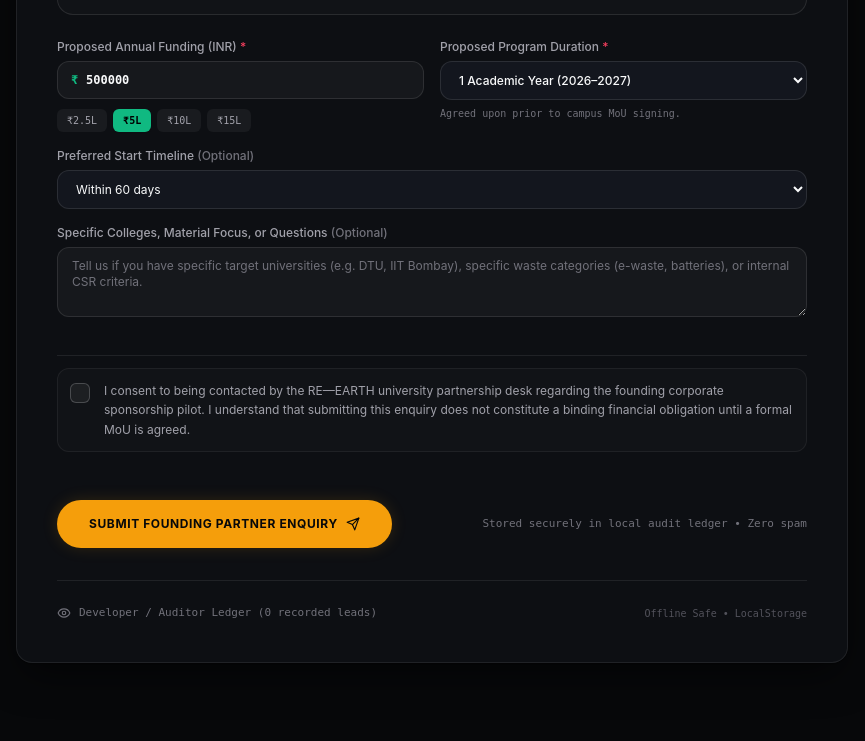
Test: SponsorEnquiryForm Component › validates required fields before allowing submission
(page scrolled)
Click the button "Submit Founding Partner Enquiry".
click(224, 524)  # box [57,500,392,548]
(page scrolled)
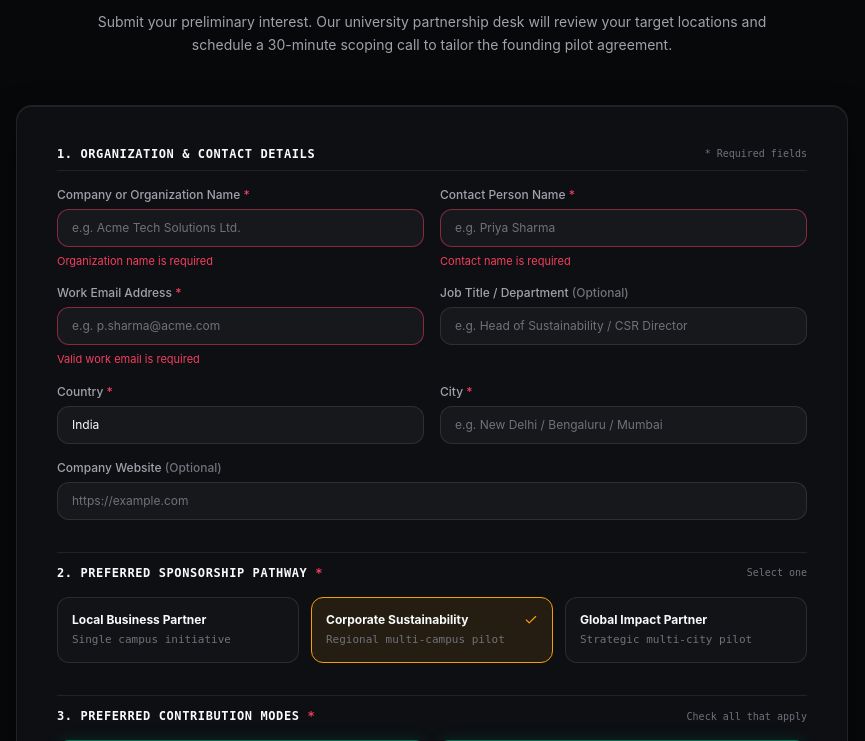
Now the text "Organization name is required" is shown, box [57,254,213,268]
Now the text "Contact name is required" is shown, box [440,254,571,268]
Now the text "Valid work email is required" is shown, box [57,352,200,366]
